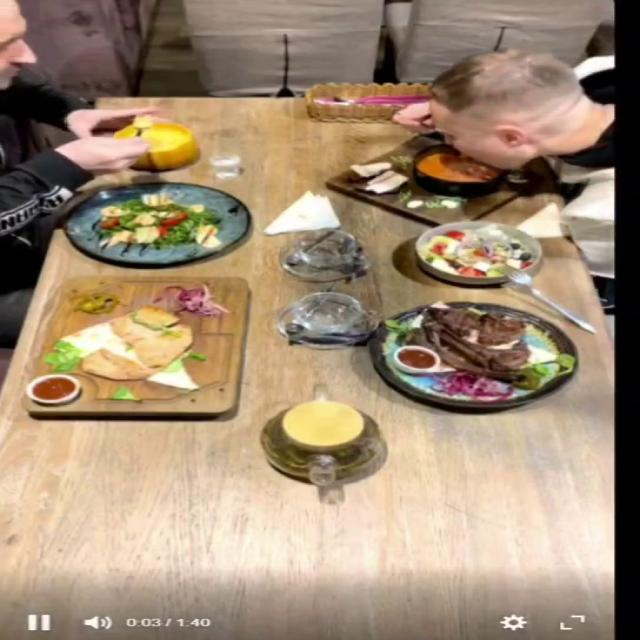alcohol: (199, 146, 272, 179)
meat: (367, 301, 579, 408)
salat: (60, 182, 249, 266), (414, 220, 542, 285)
soup: (326, 137, 554, 226), (112, 118, 199, 170)
tea: (280, 400, 365, 447)
